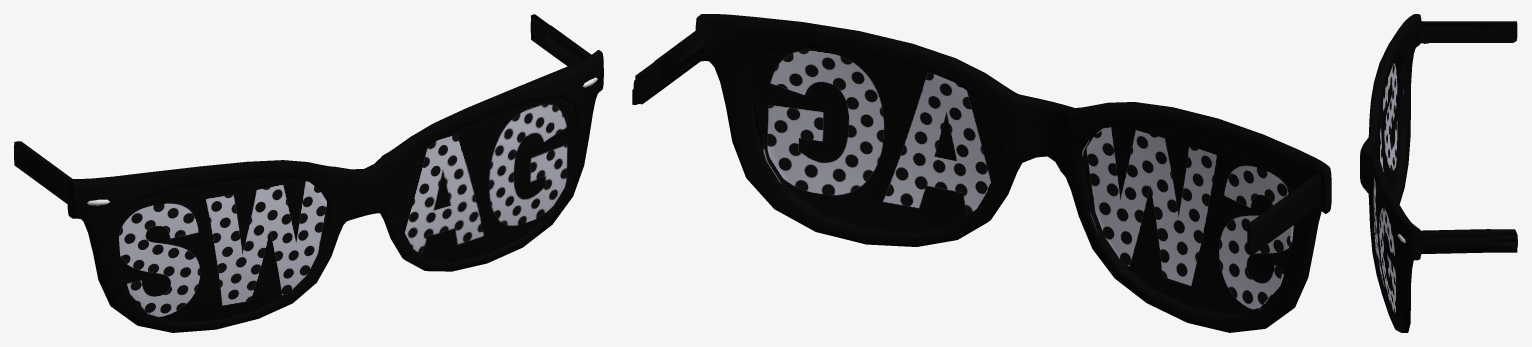
File: swagger.glb
The picture shows the model from 3 angles, left to right: view 1: azimuth 30°, elevation 25°; view 2: azimuth 150°, elevation 25°; view 3: azimuth 270°, elevation 25°; orthographic projection. The views are drawn at different scales.
Parts seen in each view (by area): view 1: Frames_Plane.006; view 2: Frames_Plane.006; view 3: Frames_Plane.006.
Boxes of the visible parts, x1=… form: Frames_Plane.006: x1=14, y1=14, x2=603, y2=332; Frames_Plane.006: x1=632, y1=14, x2=1331, y2=332; Frames_Plane.006: x1=1360, y1=14, x2=1517, y2=332.
Bounding box in the file's own units: 0.8983 × 0.2755 × 0.2784.
3 materials, 1 textured.
